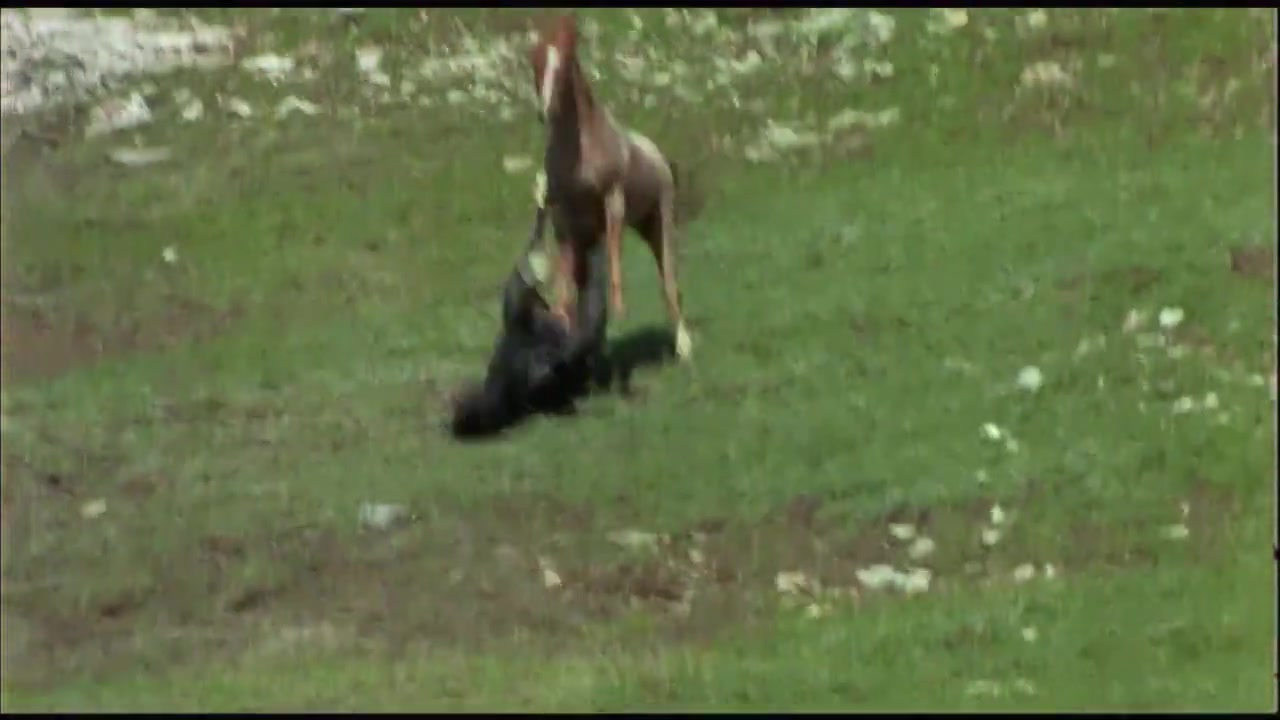horse: (533, 15, 718, 396)
